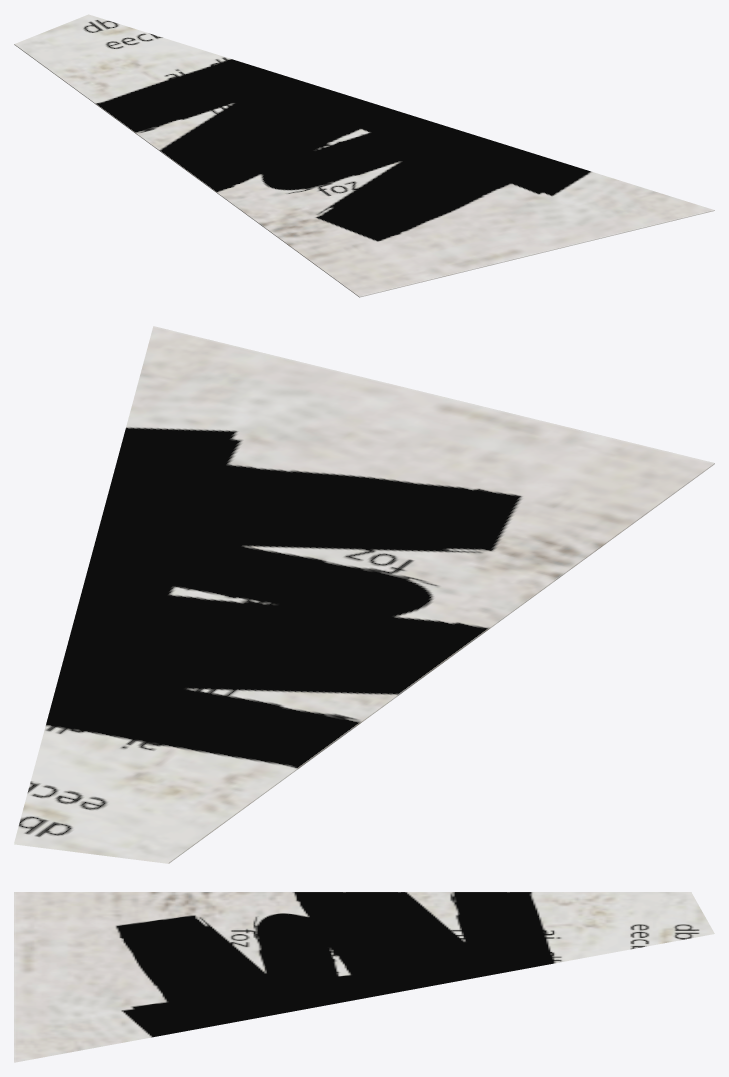
The model's file is cellfracture2.glb.
3 views of the same model, one above another, from view 1: azimuth 30°, elevation 25°; view 2: azimuth 150°, elevation 25°; view 3: azimuth 270°, elevation 25° (orthographic). The views are drawn at different scales.
Parts seen in each view (by area): view 1: Plane.008; view 2: Plane.008; view 3: Plane.008.
Boxes of the visible parts, bbox=[...] form: Plane.008: bbox=[14, 14, 714, 297]; Plane.008: bbox=[14, 326, 714, 863]; Plane.008: bbox=[14, 892, 714, 1062].
Bounding box in the file's own units: 0.5642 × 0.001 × 0.9831.
1 material, 1 textured.
